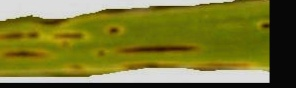Bacterial_Leaf_Blight: (0, 42, 60, 63), (0, 32, 89, 41), (117, 44, 203, 52), (99, 20, 134, 37), (257, 14, 270, 35), (96, 45, 106, 57)
